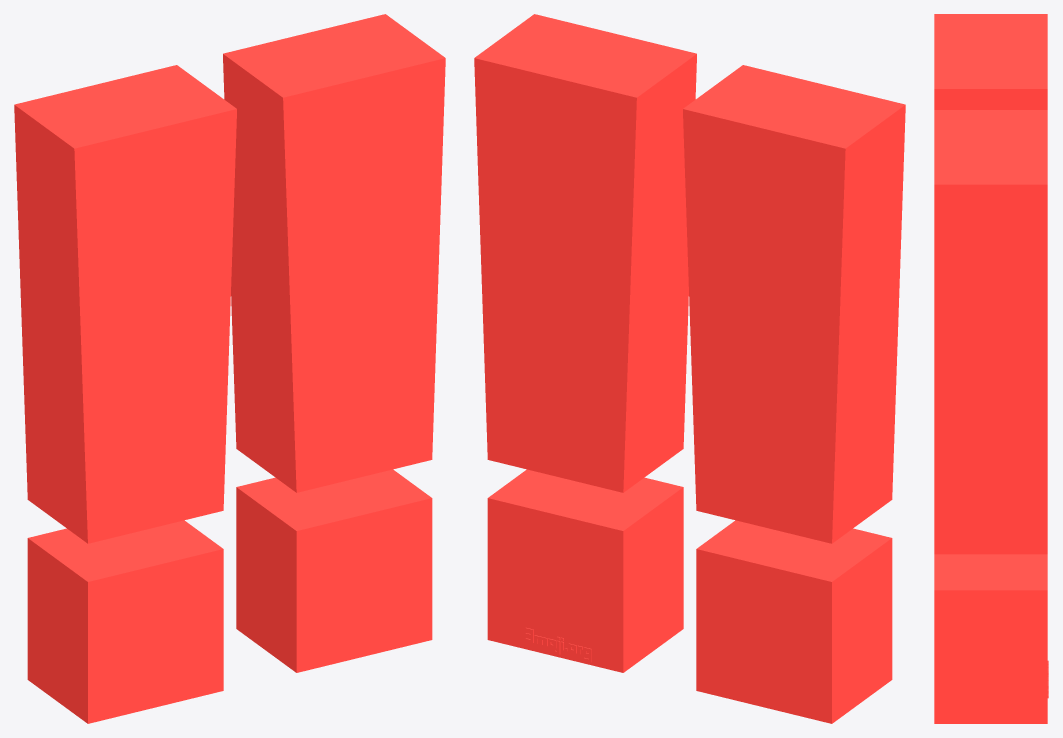
The model's file is double_exclamation_mark.gltf.
3 views of the same model, side by side, from view 1: azimuth 30°, elevation 25°; view 2: azimuth 150°, elevation 25°; view 3: azimuth 270°, elevation 25° (orthographic). The views are drawn at different scales.
Parts seen in each view (by area): view 1: Cube.6444; view 2: Cube.6444; view 3: Cube.6444.
Part boxes in pixels (<box>): Cube.6444: <box>14,14,445,723</box>; Cube.6444: <box>474,14,905,723</box>; Cube.6444: <box>934,14,1048,723</box>.
Bounding box in the file's own units: 1.49 × 2.22 × 0.4218.
1 material, 1 textured.
